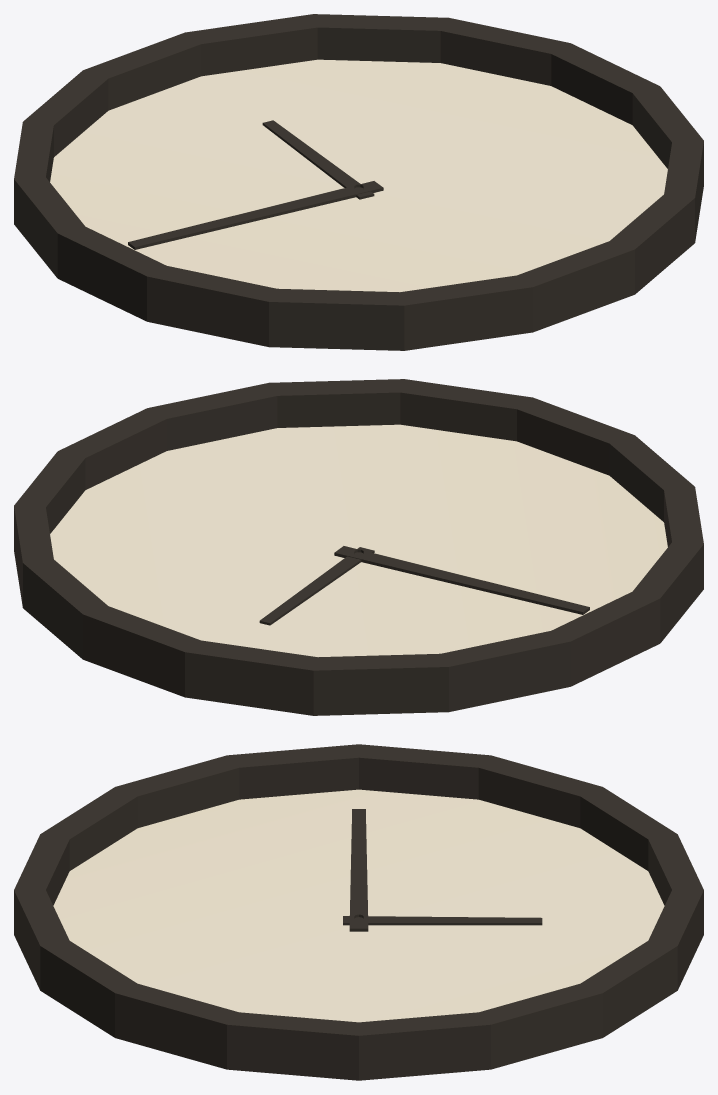
The model's file is SM_Reloj.fbx.
The picture shows the model from 3 angles, top to bottom: view 1: azimuth 30°, elevation 25°; view 2: azimuth 150°, elevation 25°; view 3: azimuth 270°, elevation 25°; orthographic projection.
Parts seen in each view (by area): view 1: Reloj, Aguja1, Aguja; view 2: Reloj, Aguja1, Aguja; view 3: Reloj, Aguja1, Aguja.
Boxes of the visible parts, x1=… form: Reloj: x1=14, y1=14, x2=703, y2=350; Aguja1: x1=128, y1=181, x2=383, y2=249; Aguja: x1=262, y1=120, x2=374, y2=199; Reloj: x1=14, y1=379, x2=703, y2=715; Aguja1: x1=334, y1=546, x2=589, y2=614; Aguja: x1=259, y1=547, x2=374, y2=625; Reloj: x1=14, y1=744, x2=703, y2=1080; Aguja1: x1=349, y1=809, x2=368, y2=931; Aguja: x1=343, y1=916, x2=542, y2=925.
Size of the model in its own units: 40.32 by 2.9 by 40.32.
